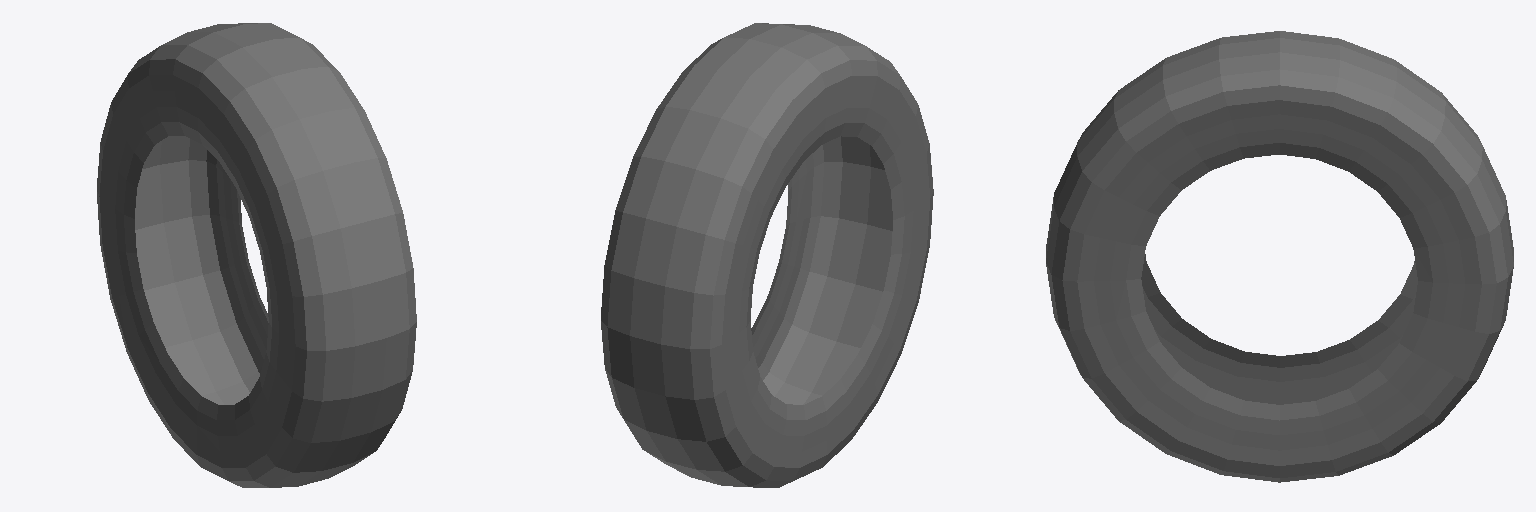
Rendered from tread.obj.
3 renders of one model, left to right at view 1: azimuth 30°, elevation 25°; view 2: azimuth 150°, elevation 25°; view 3: azimuth 270°, elevation 25°, orthographic.
Parts seen in each view (by area): view 1: g loftedSurface1_loftedSurface1; view 2: g loftedSurface1_loftedSurface1; view 3: g loftedSurface1_loftedSurface1.
Part boxes in pixels (x1,y1,x2,y2): g loftedSurface1_loftedSurface1: (97, 23, 416, 487); g loftedSurface1_loftedSurface1: (601, 23, 933, 487); g loftedSurface1_loftedSurface1: (1046, 31, 1513, 482).
Size of the model in its own units: 1.86 by 6.16 by 6.15.